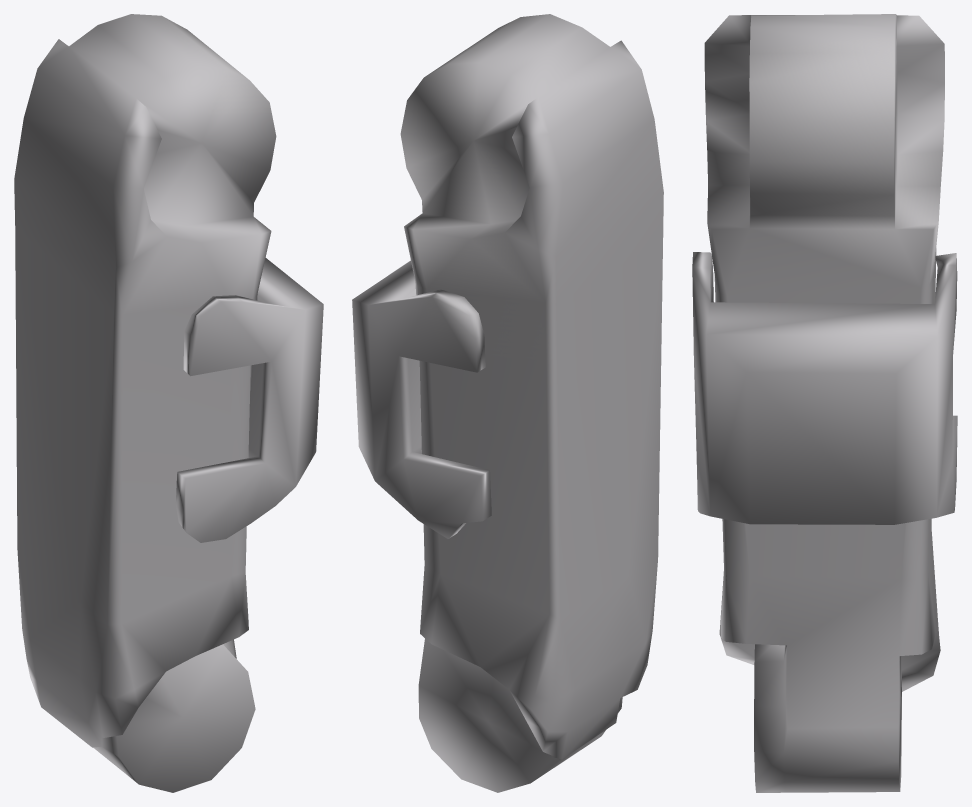
The model's file is Finger_Proximal.dae.
The picture shows the model from 3 angles, left to right: view 1: azimuth 30°, elevation 25°; view 2: azimuth 150°, elevation 25°; view 3: azimuth 270°, elevation 25°; orthographic projection. The views are drawn at different scales.
Visible parts, largest first — view 1: Mesh; view 2: Mesh; view 3: Mesh.
Boxes of the visible parts, x1,y1,x2,y2 form: Mesh: [14, 14, 323, 792]; Mesh: [352, 14, 663, 792]; Mesh: [692, 14, 957, 792].
Size of the model in its own units: 0.0188 by 0.0573 by 0.0181.
Materials: 1 (1 with a texture image).
